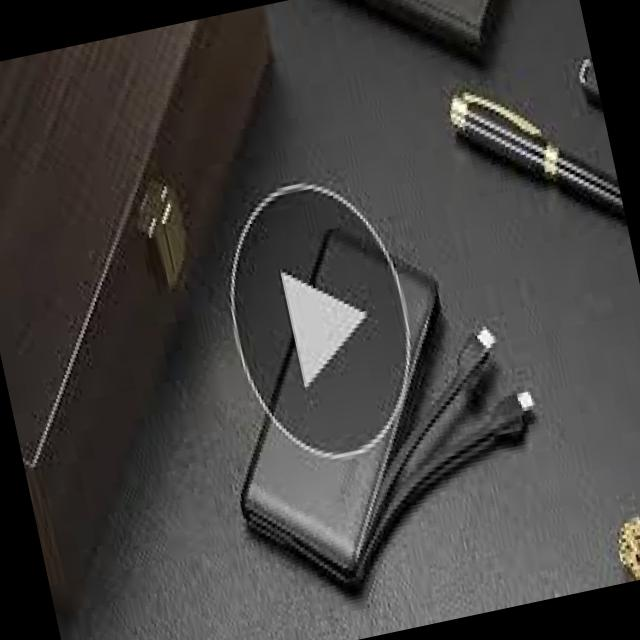portable-charger: (182, 207, 498, 618)
